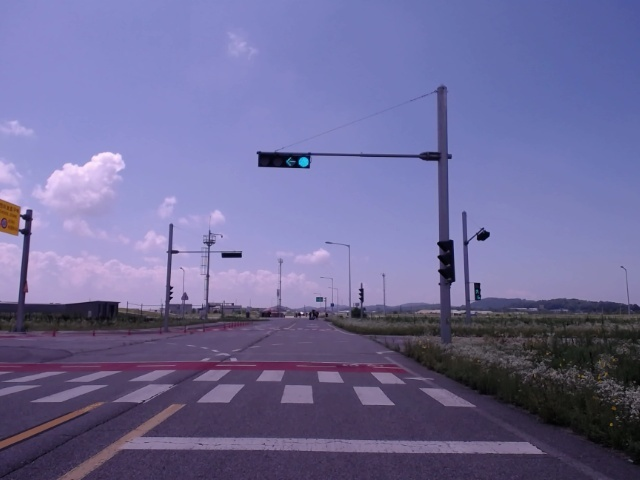all_green_4: (257, 151, 311, 169)
